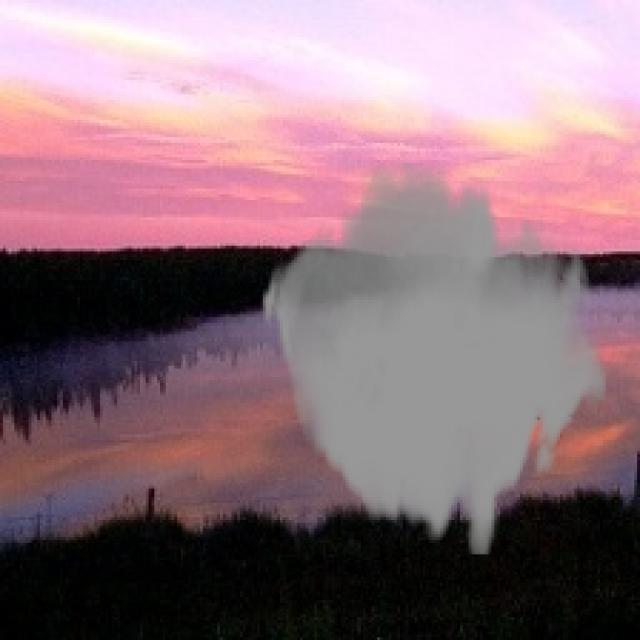Smoke: (260, 162, 609, 554)
